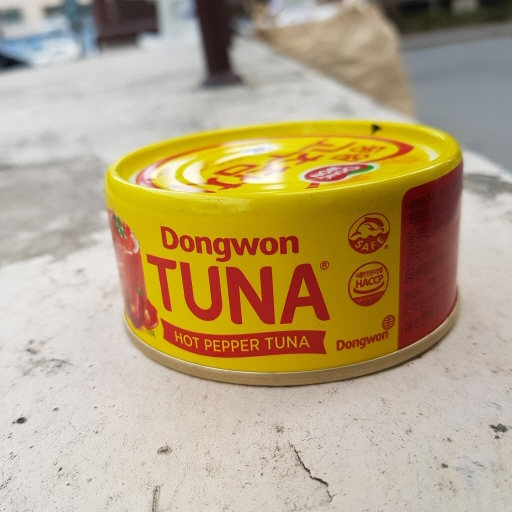Metal_1: (108, 115, 470, 390)
